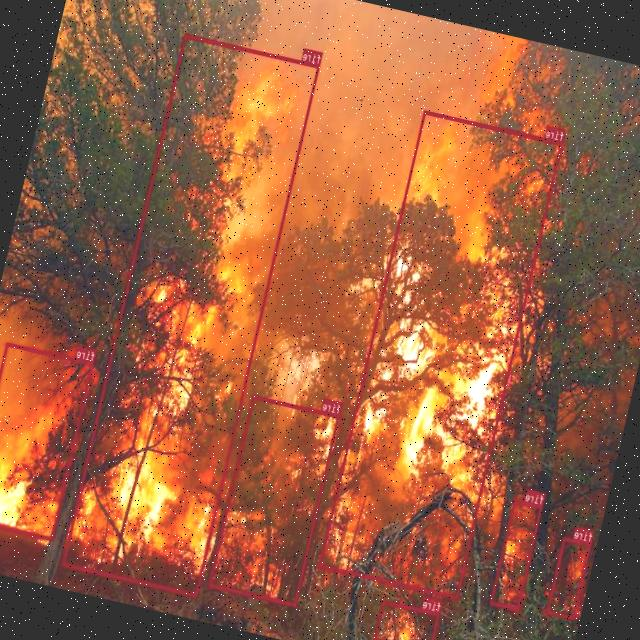fire: (62, 33, 320, 596), (319, 110, 563, 598), (208, 394, 340, 606), (0, 341, 94, 541), (489, 498, 544, 610), (546, 536, 592, 618), (373, 599, 440, 640)
